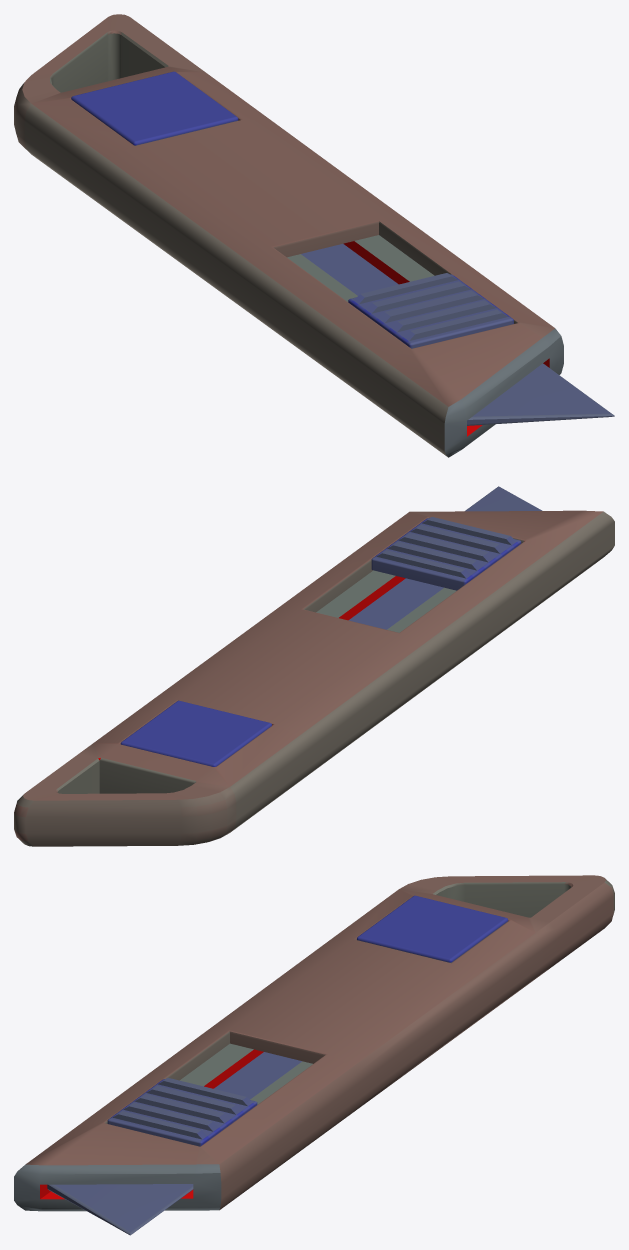
Rendered from Knife_LO_04_ScaleAndHierarchyFixed.fbx.
The picture shows the model from 3 angles, top to bottom: view 1: azimuth 30°, elevation 25°; view 2: azimuth 150°, elevation 25°; view 3: azimuth 330°, elevation 25°; orthographic projection. The views are drawn at different scales.
Parts seen in each view (by area): view 1: Knife_LO_04_ScaleAndHierarchyFixed, Blade_knife, Button_knife; view 2: Knife_LO_04_ScaleAndHierarchyFixed, Blade_knife, Button_knife; view 3: Knife_LO_04_ScaleAndHierarchyFixed, Blade_knife, Button_knife.
Boxes of the visible parts, bbox=[...] form: Knife_LO_04_ScaleAndHierarchyFixed: bbox=[14, 14, 563, 457]; Blade_knife: bbox=[301, 244, 614, 425]; Button_knife: bbox=[71, 71, 238, 145]; Knife_LO_04_ScaleAndHierarchyFixed: bbox=[14, 510, 614, 846]; Blade_knife: bbox=[348, 486, 542, 629]; Button_knife: bbox=[120, 700, 271, 766]; Knife_LO_04_ScaleAndHierarchyFixed: bbox=[14, 875, 614, 1211]; Blade_knife: bbox=[47, 1052, 301, 1235]; Button_knife: bbox=[357, 895, 508, 962].
Size of the model in its own units: 3.12 by 1.4 by 15.69.
